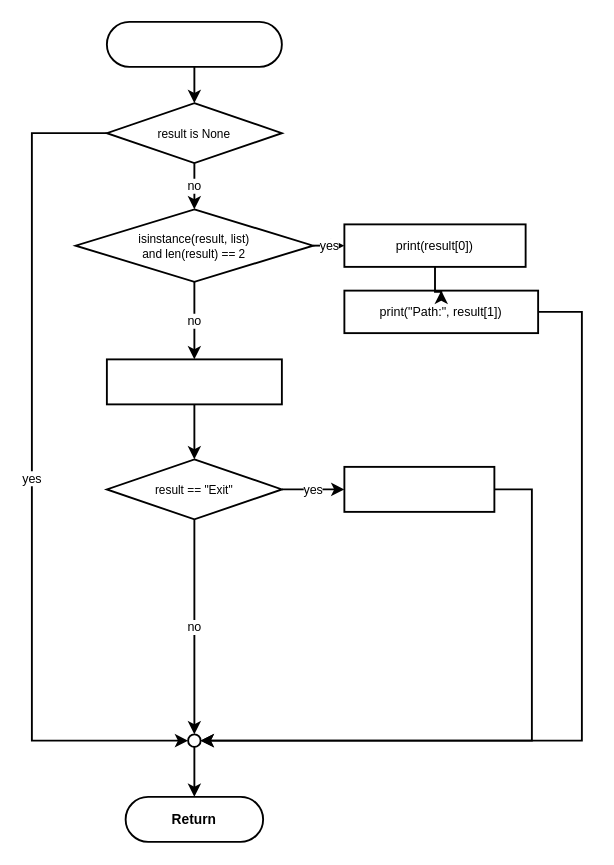
Some shapes in this 614 by 865 pixel diagram are drawn without their labels. The centre of each missing label's shape, as x and y in pixels:
output(result): point 193,43
print(result): point 193,381
sys.exit(): point 419,488
